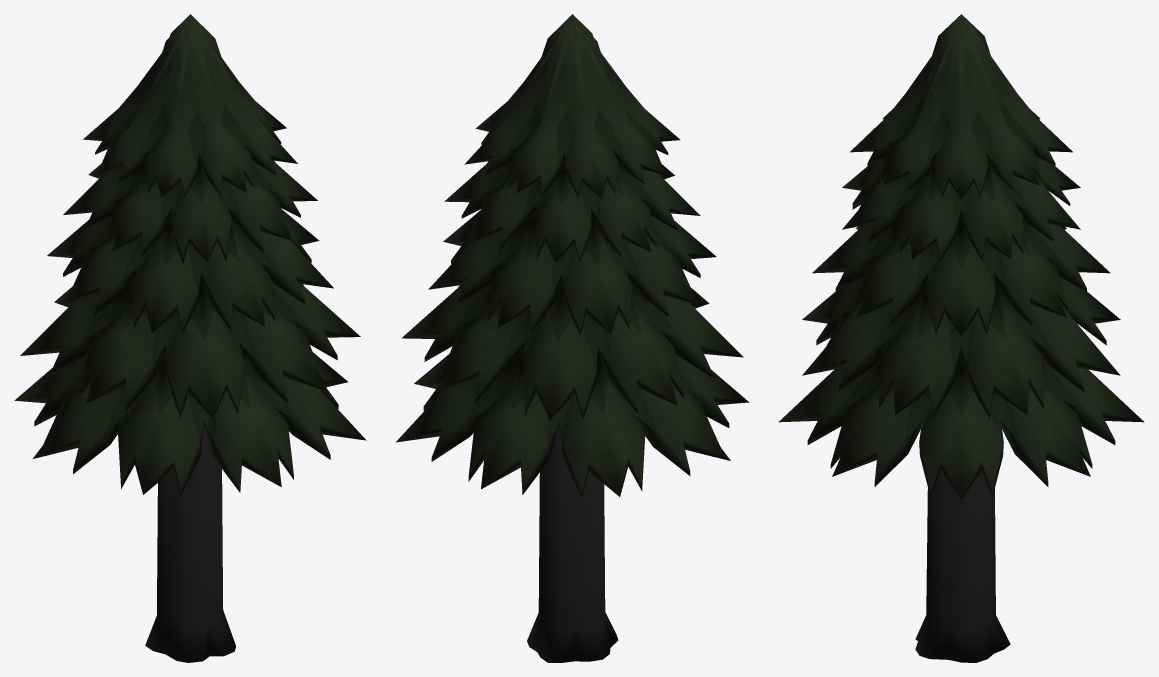
File: Simple_Trees_M.fbx
3 renders of one model, left to right at view 1: azimuth 30°, elevation 25°; view 2: azimuth 150°, elevation 25°; view 3: azimuth 270°, elevation 25°, orthographic.
Parts seen in each view (by area): view 1: Simple_Trees_M; view 2: Simple_Trees_M; view 3: Simple_Trees_M.
Boxes of the visible parts, left/top/right/bottom form: Simple_Trees_M: left=14, top=14, right=366, bottom=662; Simple_Trees_M: left=395, top=14, right=749, bottom=662; Simple_Trees_M: left=778, top=14, right=1144, bottom=662.
Bounding box in the file's own units: 1.19 × 2.27 × 1.19.
1 material, 1 textured.
